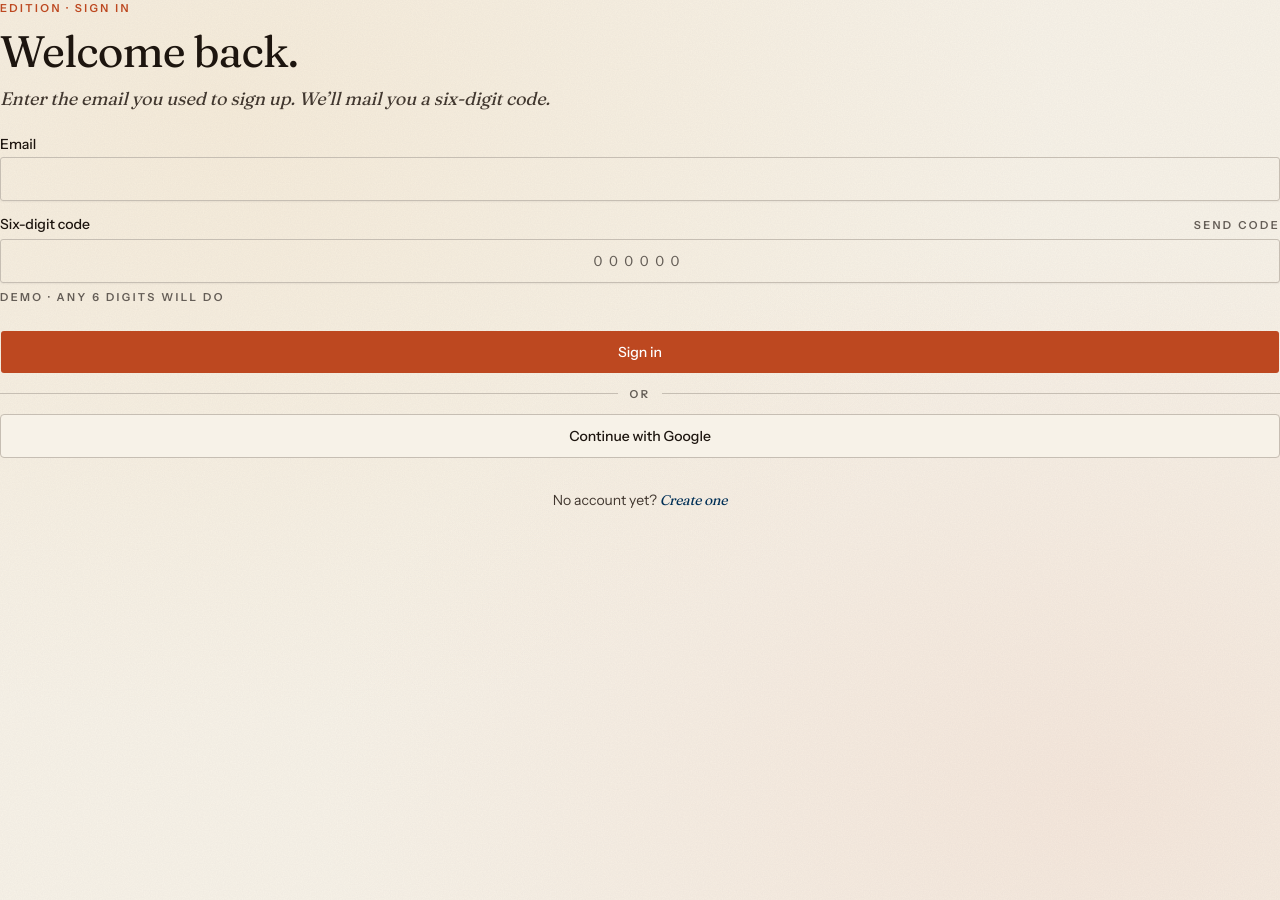
AuthForm — Send code / Resend code toggle › flips label from 'Send code' to 'Resend code' after a click with a filled email
Type "parent@example.com" into the field labelled "Email".
click(640, 178); type("parent@example.com")  # box [0,156,1279,200]
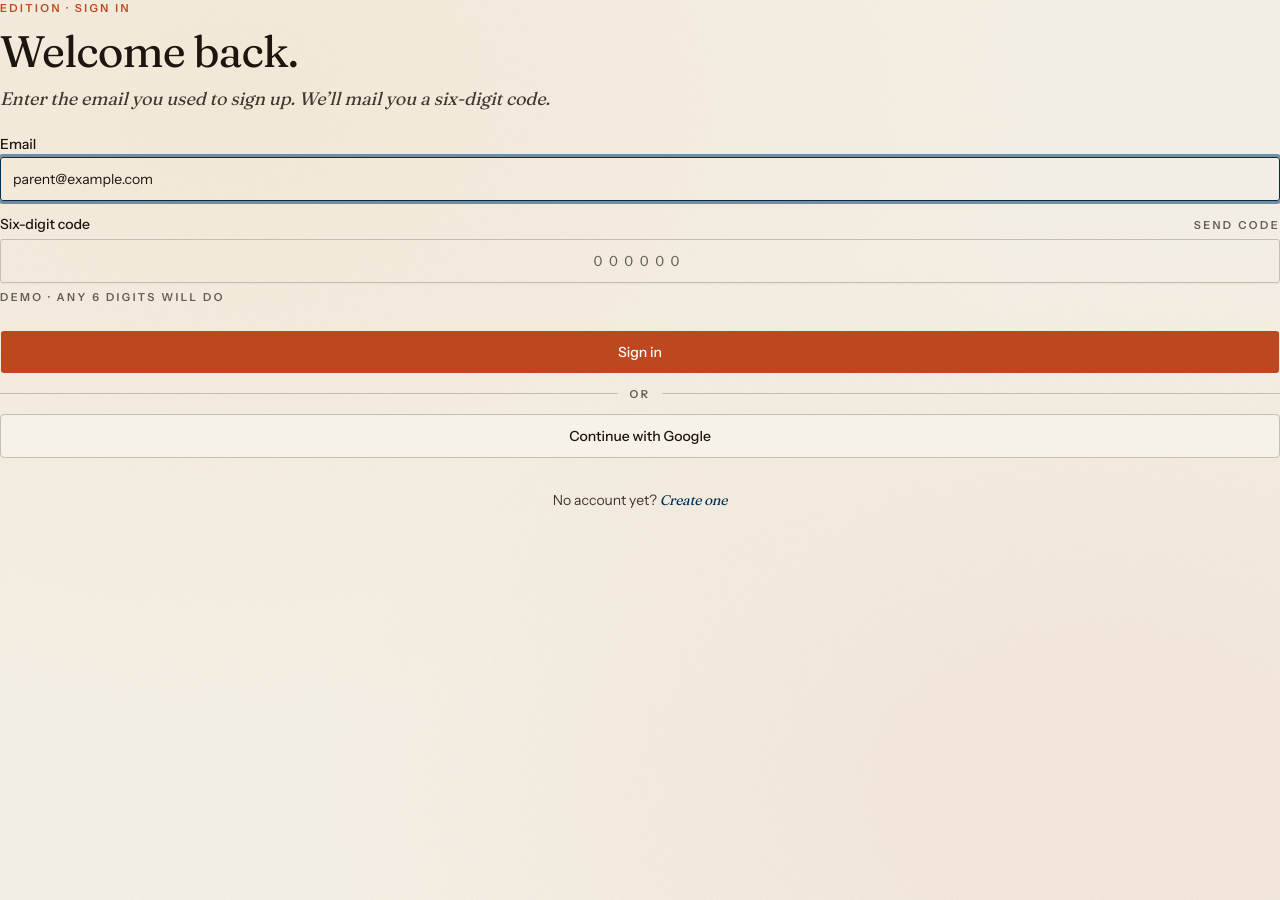
Click the button "Send code".
click(1237, 225)  # box [1194,216,1279,233]
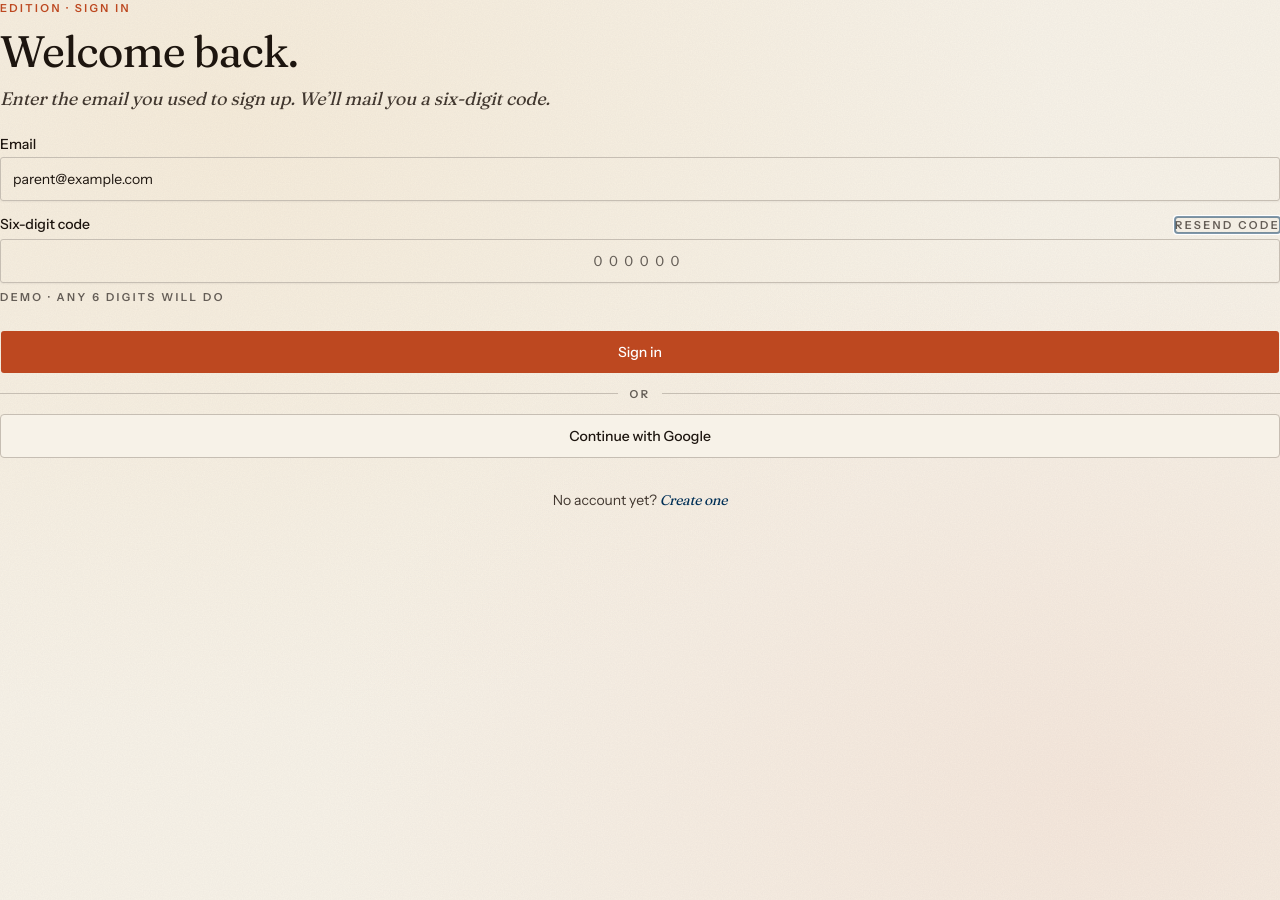
Check: the button "Resend code" is shown, box [1175,216,1279,233]
